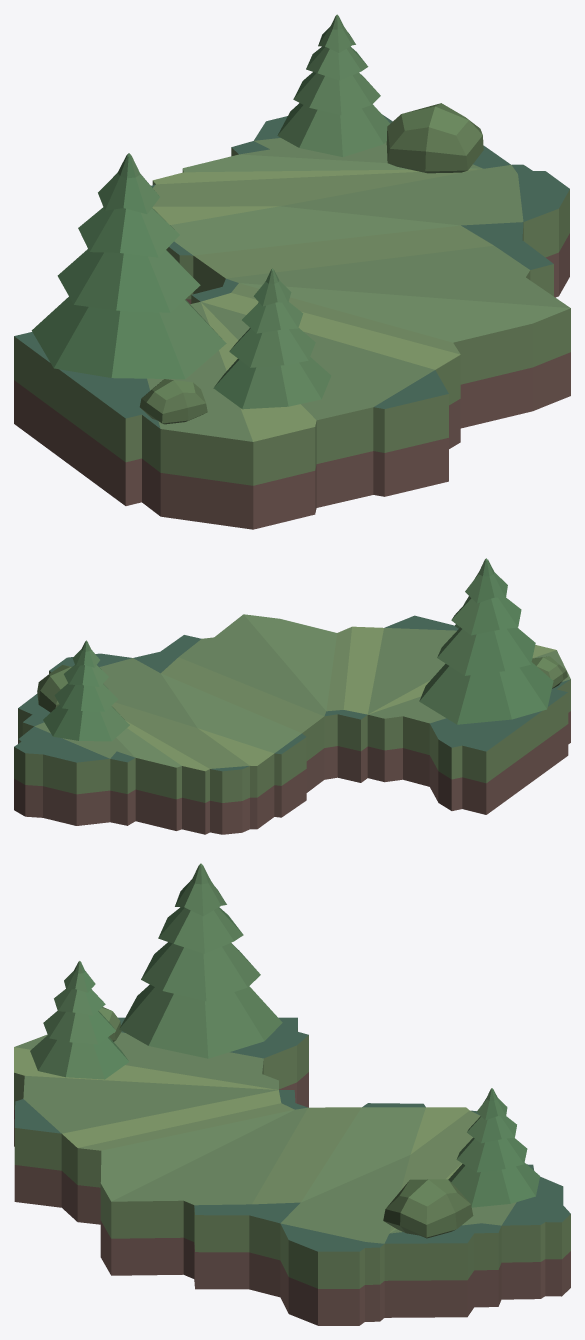
File: amga.gltf
3 renders of one model, top to bottom at view 1: azimuth 30°, elevation 25°; view 2: azimuth 150°, elevation 25°; view 3: azimuth 270°, elevation 25°, orthographic. The views are drawn at different scales.
Visible parts, largest first — view 1: амга; view 2: амга; view 3: амга.
Boxes of the visible parts, x1=… form: амга: x1=14, y1=14, x2=570, y2=529; амга: x1=14, y1=558, x2=570, y2=834; амга: x1=14, y1=863, x2=570, y2=1325.
Size of the model in its own units: 1.1 by 0.5325 by 1.06.
